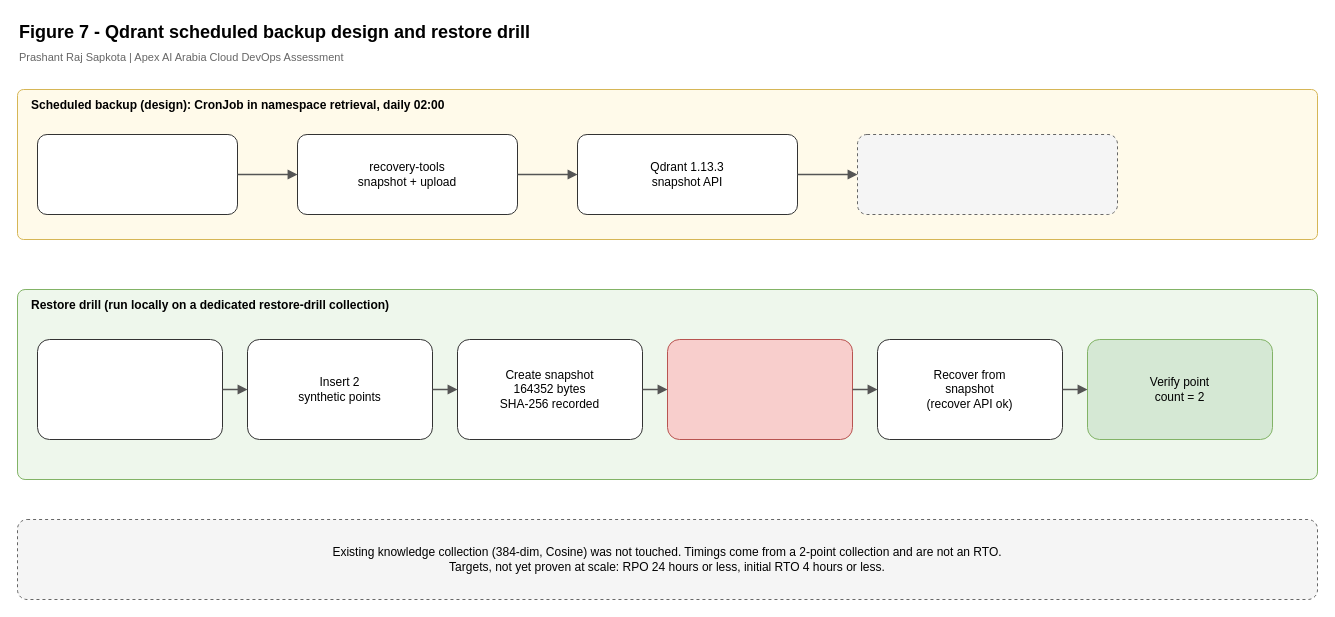
Some shapes in this 1335 by 617 pixel diagram are drawn without their labels. Each missing label, with the centre of its shape:
"Create collection restore-drill (4-dim, Cosine)" goes at (x=129, y=389).
"Delete test collection" goes at (x=759, y=389).
"qdrant-backup CronJob" goes at (x=137, y=174).
"S3 + KMS bucket 90-day retention (Terraform recovery module)" goes at (x=987, y=174).
